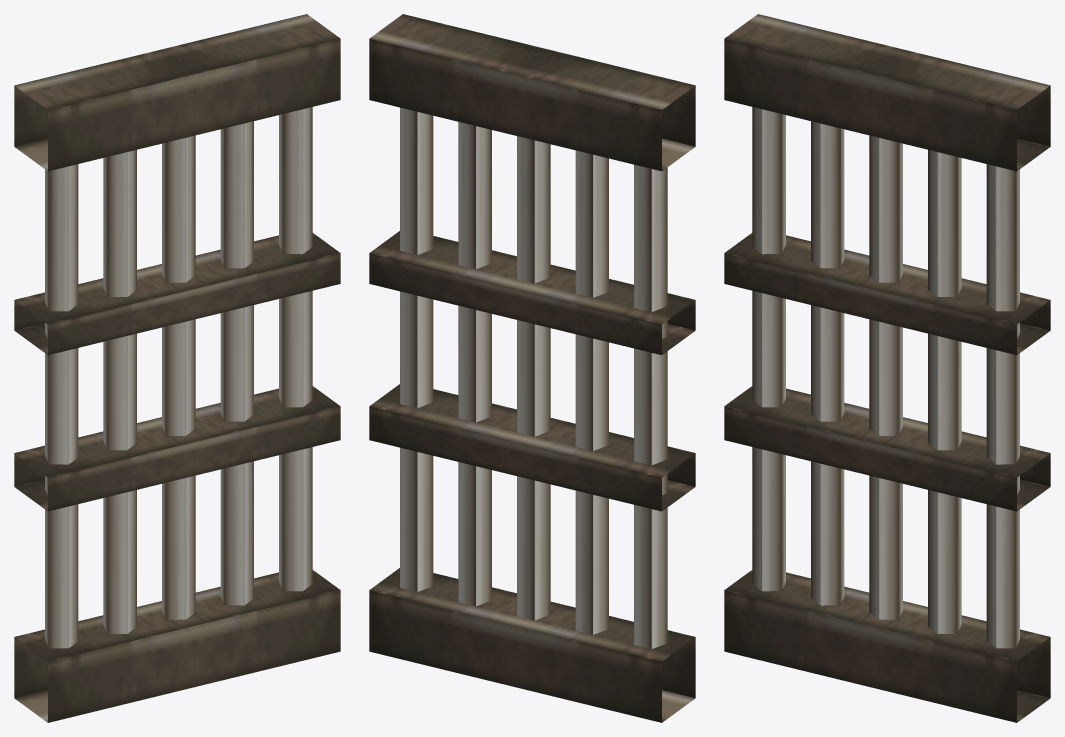
File: Inside_Poly_Cell_Center.obj
3 views of the same model, side by side, from view 1: azimuth 30°, elevation 25°; view 2: azimuth 150°, elevation 25°; view 3: azimuth 330°, elevation 25° (orthographic).
Visible parts, largest first — view 1: Cube_Cube.001; view 2: Cube_Cube.001; view 3: Cube_Cube.001.
Boxes of the visible parts, x1,y1,x2,y2 form: Cube_Cube.001: (14,14,340,722); Cube_Cube.001: (369,14,695,722); Cube_Cube.001: (724,14,1050,722).
Size of the model in its own units: 1 by 2 by 0.2.
Materials: 1 (1 with a texture image).
